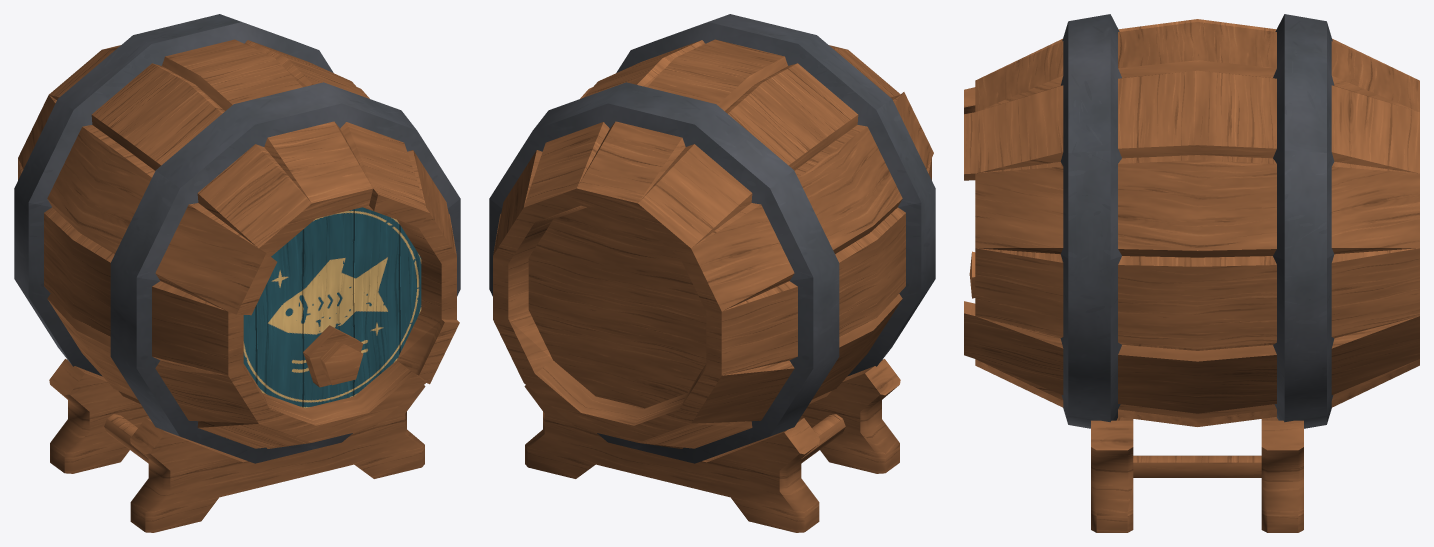
The model's file is keg_herring.gltf.
The picture shows the model from 3 angles, left to right: view 1: azimuth 30°, elevation 25°; view 2: azimuth 150°, elevation 25°; view 3: azimuth 270°, elevation 25°; orthographic projection. The views are drawn at different scales.
Parts seen in each view (by area): view 1: keg_herring; view 2: keg_herring; view 3: keg_herring.
Part boxes in pixels (x1=…): keg_herring: x1=14, y1=14, x2=460, y2=532; keg_herring: x1=489, y1=14, x2=935, y2=532; keg_herring: x1=964, y1=14, x2=1419, y2=532.
Bounding box in the file's own units: 1.8 × 2.05 × 2.
Materials: 6 (6 with a texture image).
